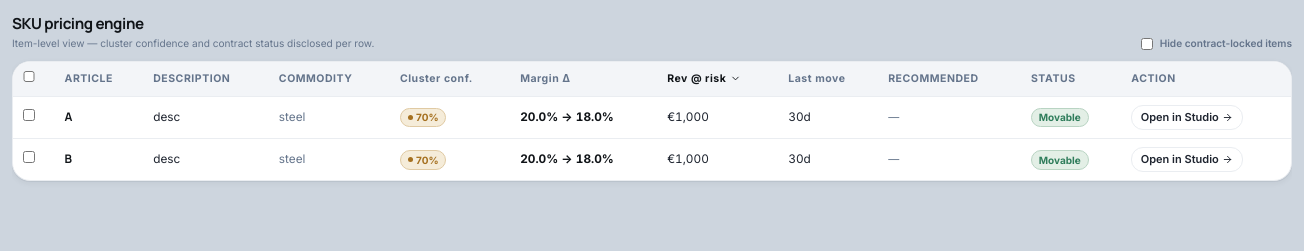
SkuTable controls (Task 5) › clears selection when the queue filter changes
Click the checkbox named "Select A" at point(29, 115), box [23,109,35,121]
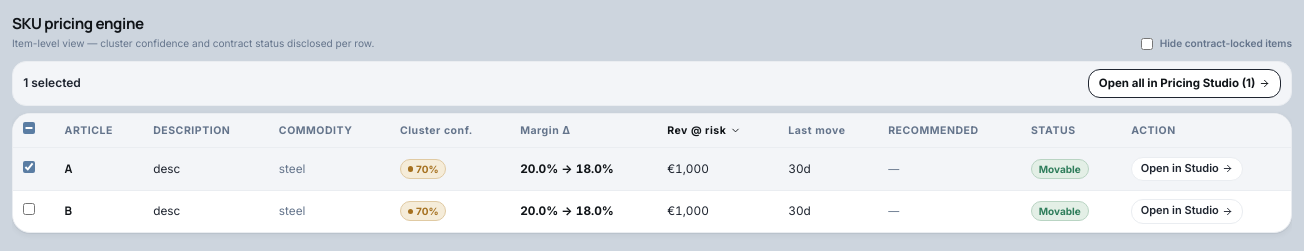
Expected: the element with test id "sku-bulk-toolbar" is shown, [12,61,1292,106]
